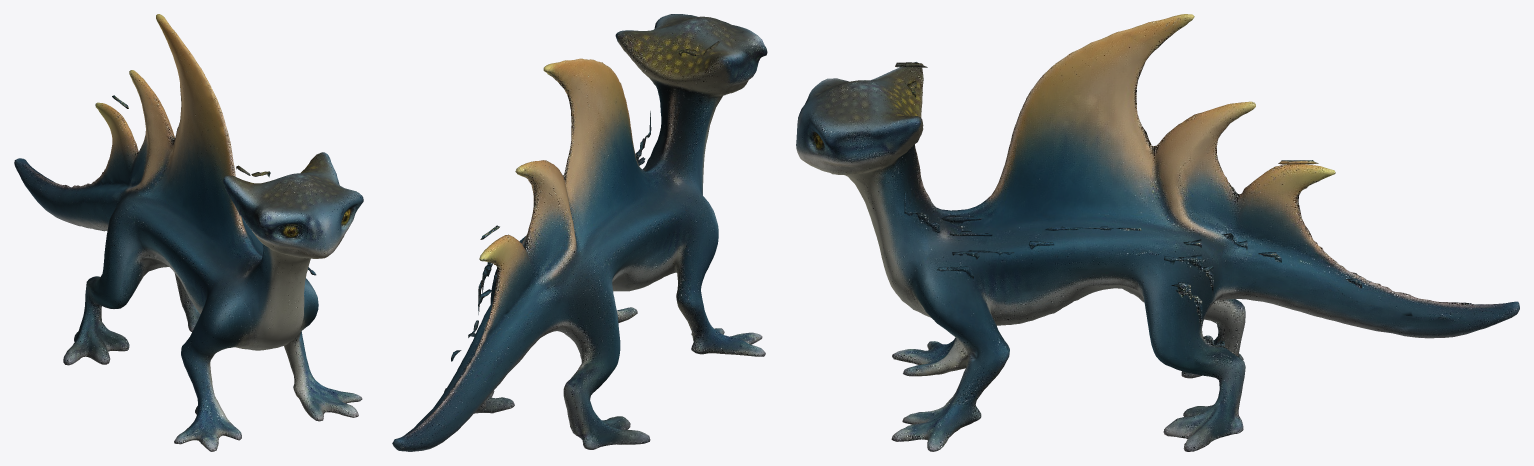
Rendered from qihuan-b.7f8db2f29bb6.glb.
3 renders of one model, left to right at view 1: azimuth 30°, elevation 25°; view 2: azimuth 150°, elevation 25°; view 3: azimuth 270°, elevation 25°, orthographic. The views are drawn at different scales.
Visible parts, largest first — view 1: QihuanExpressionReviewMesh; view 2: QihuanExpressionReviewMesh; view 3: QihuanExpressionReviewMesh.
Boxes of the visible parts, box(x1,y1,x2,y2) form: QihuanExpressionReviewMesh: box(14, 14, 363, 451); QihuanExpressionReviewMesh: box(392, 14, 767, 451); QihuanExpressionReviewMesh: box(796, 14, 1519, 451).
Bounding box in the file's own units: 0.3534 × 0.5836 × 0.9915.
Materials: 1 (1 with a texture image).
